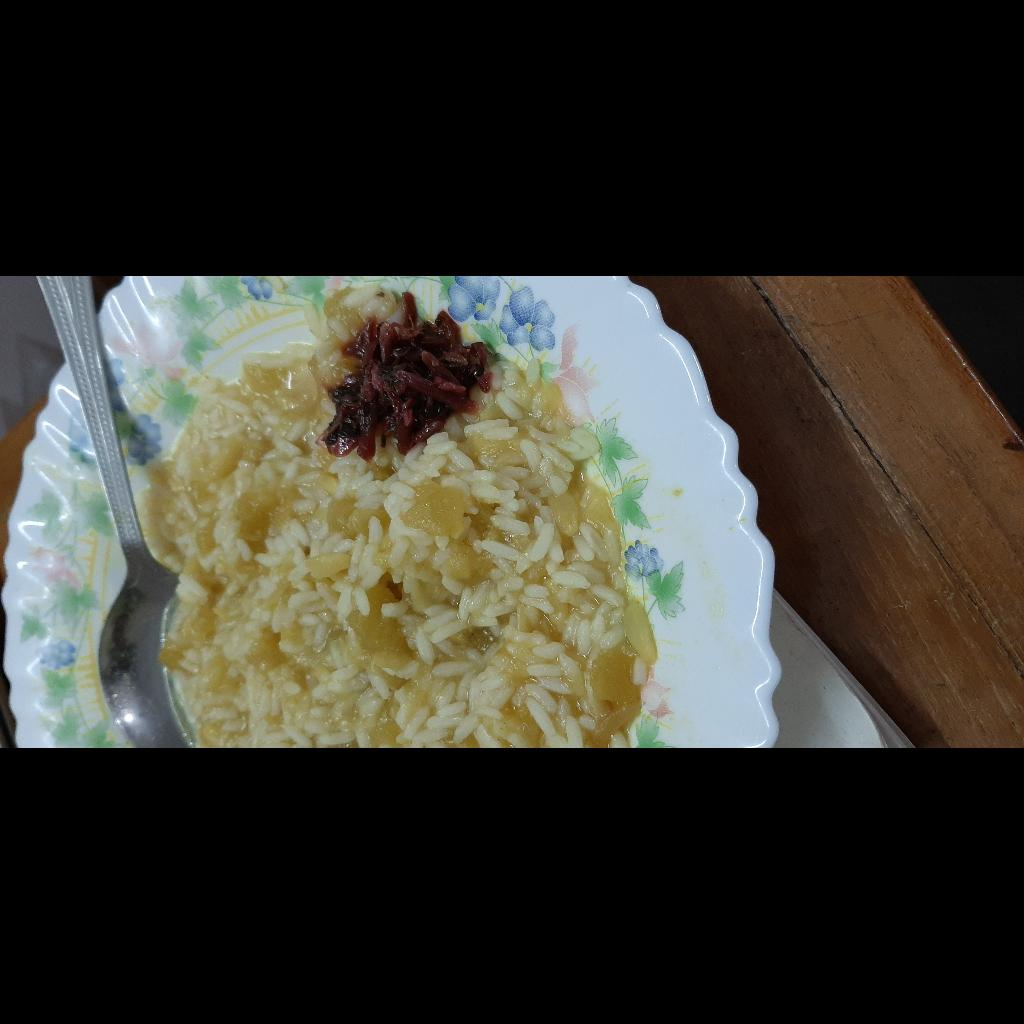khichuri: (0, 417, 402, 931)
lal-shak: (281, 591, 461, 768)
